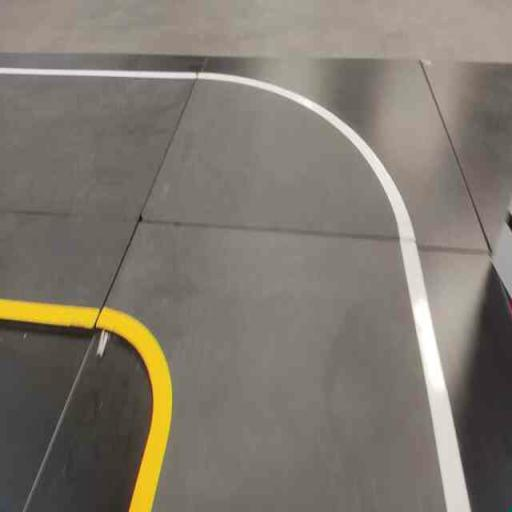left: (57, 67, 490, 486)
